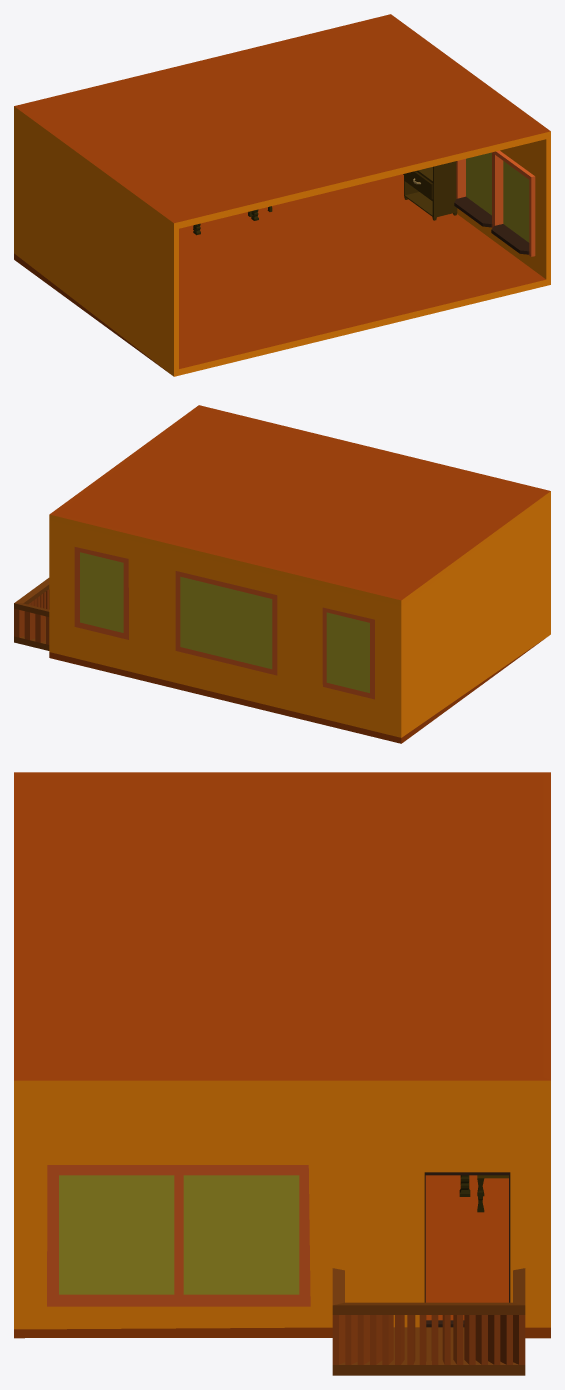
File: tutorial game.fbx
3 renders of one model, top to bottom at view 1: azimuth 30°, elevation 25°; view 2: azimuth 150°, elevation 25°; view 3: azimuth 270°, elevation 25°, orthographic. The views are drawn at different scales.
Parts seen in each view (by area): view 1: kommode; view 2: kommode; view 3: kommode.
Part boxes in pixels (left/top/right/bottom): kommode: left=14, top=14, right=550, bottom=376; kommode: left=14, top=405, right=550, bottom=743; kommode: left=14, top=772, right=550, bottom=1375.
Bounding box in the file's own units: 3379 × 1175 × 2218.
